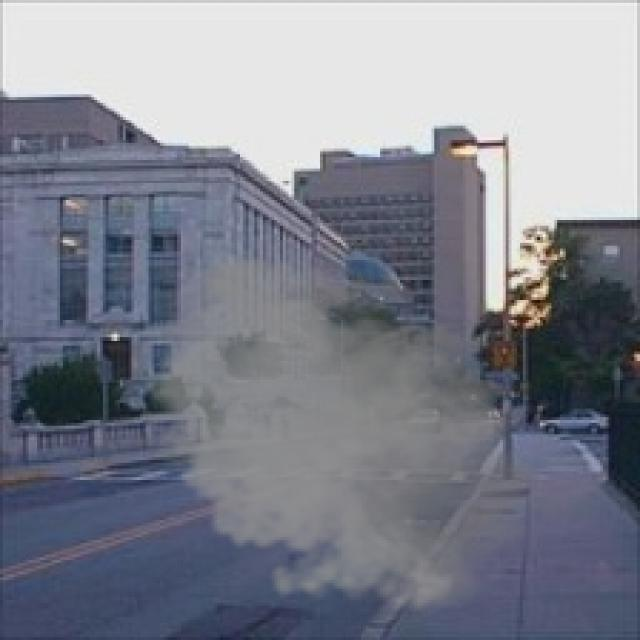smoke: (132, 248, 557, 623)
